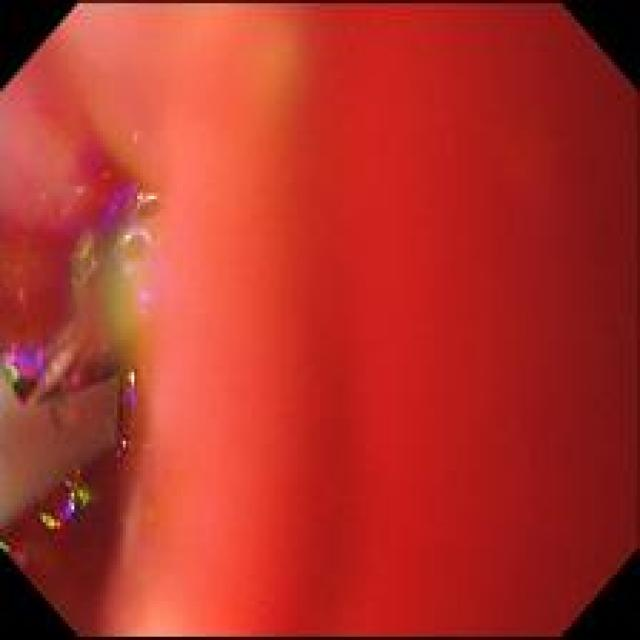color misalignment: (218, 5, 635, 634), (68, 215, 165, 347), (38, 474, 98, 532), (2, 342, 45, 386), (103, 187, 154, 223), (128, 369, 136, 404), (116, 439, 127, 460), (14, 554, 24, 562), (2, 544, 9, 552)
instrument: (2, 187, 169, 534)
